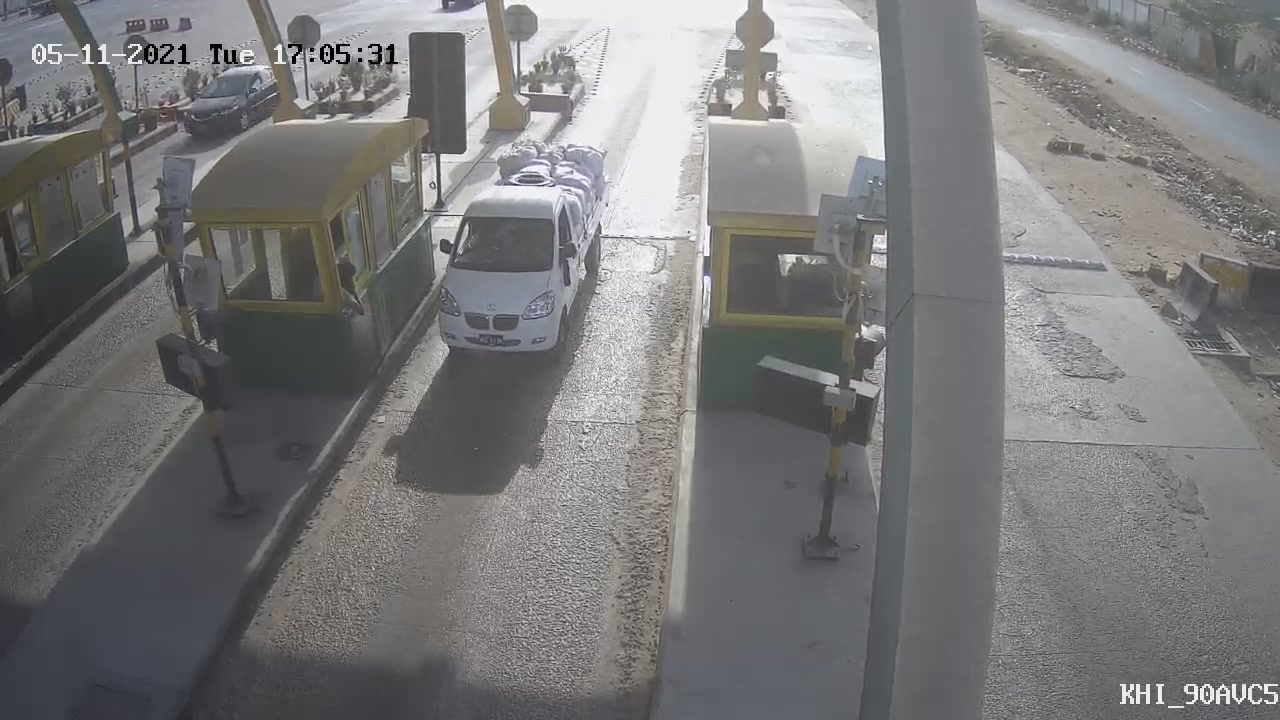F2: (412, 130, 611, 378)
